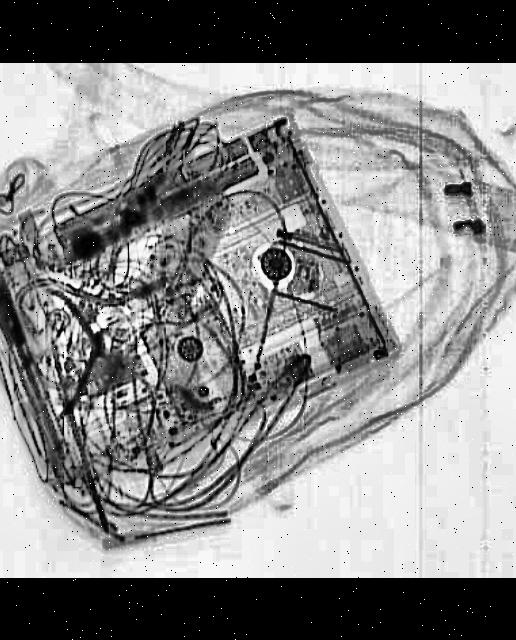Pliers: (46, 282, 116, 416)
